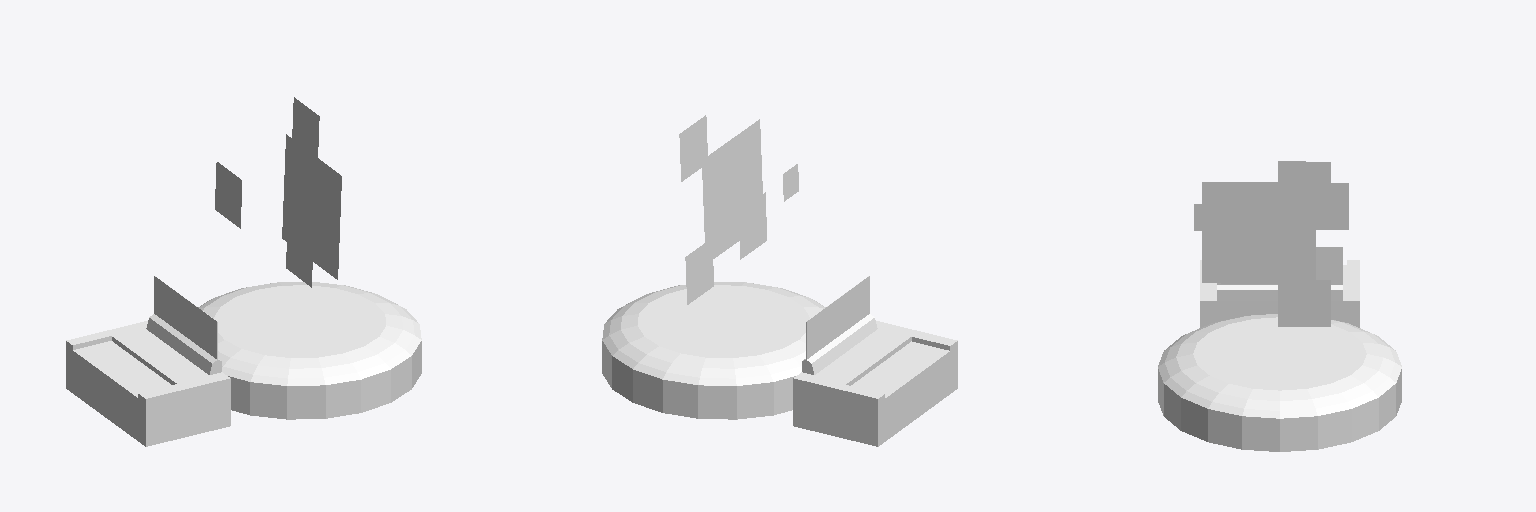
The picture shows the model from 3 angles: view 1: azimuth 30°, elevation 25°; view 2: azimuth 150°, elevation 25°; view 3: azimuth 270°, elevation 25°; orthographic projection.
Visible parts, largest first — view 1: pCylinder1, pCube1, pPlane5, pCube2, pPlane2, pPlane3, pPlane1; view 2: pCylinder1, pCube1, pPlane5, pCube2, pPlane2, pPlane3, pPlane1; view 3: pCylinder1, pPlane5, pCube1, pPlane3, pPlane1, pCube2, pPlane2.
Boxes of the visible parts, <box> form: pCylinder1: <box>198,282,421,419</box>; pCube1: <box>66,321,230,446</box>; pPlane5: <box>282,134,341,279</box>; pCube2: <box>146,276,221,374</box>; pPlane2: <box>215,162,241,228</box>; pPlane3: <box>292,97,319,157</box>; pPlane1: <box>286,243,312,287</box>; pCylinder1: <box>602,282,825,419</box>; pCube1: <box>793,321,957,446</box>; pPlane5: <box>702,119,762,263</box>; pCube2: <box>802,276,877,374</box>; pPlane2: <box>738,192,766,259</box>; pPlane3: <box>679,115,707,181</box>; pPlane1: <box>685,243,713,304</box>; pCylinder1: <box>1158,314,1401,451</box>; pPlane5: <box>1202,182,1315,283</box>; pCube1: <box>1200,260,1359,327</box>; pPlane3: <box>1278,161,1330,208</box>; pPlane1: <box>1278,280,1330,326</box>; pCube2: <box>1217,247,1342,300</box>; pPlane2: <box>1316,183,1348,229</box>.
Size of the model in its own units: 6.54 by 5.21 by 4.62.
Materials: 1 (1 with a texture image).